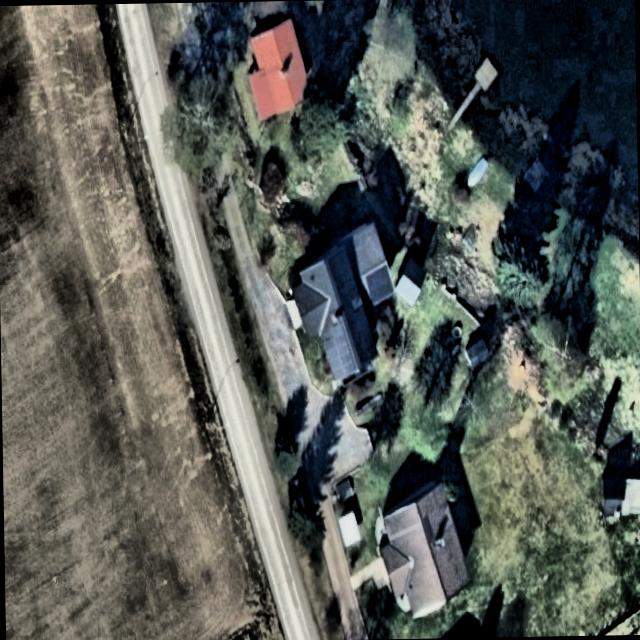roof_pv: (323, 319, 358, 383), (364, 262, 398, 304)
